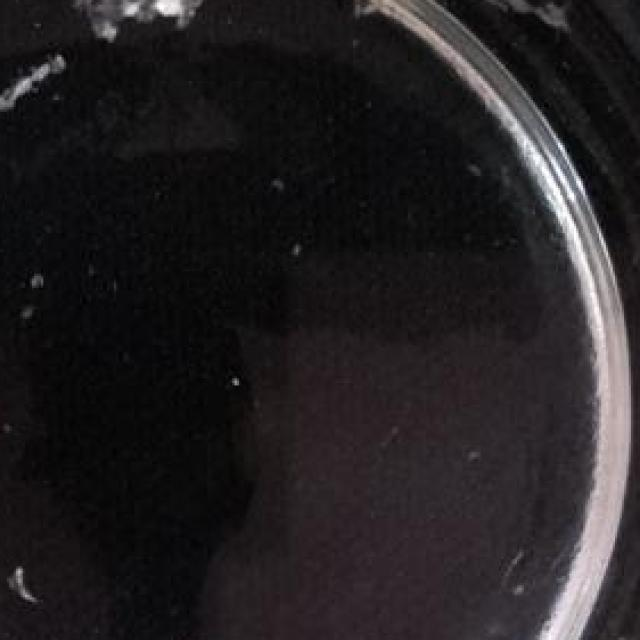Microplastic: (68, 0, 246, 29), (0, 36, 66, 112), (9, 559, 37, 602)
